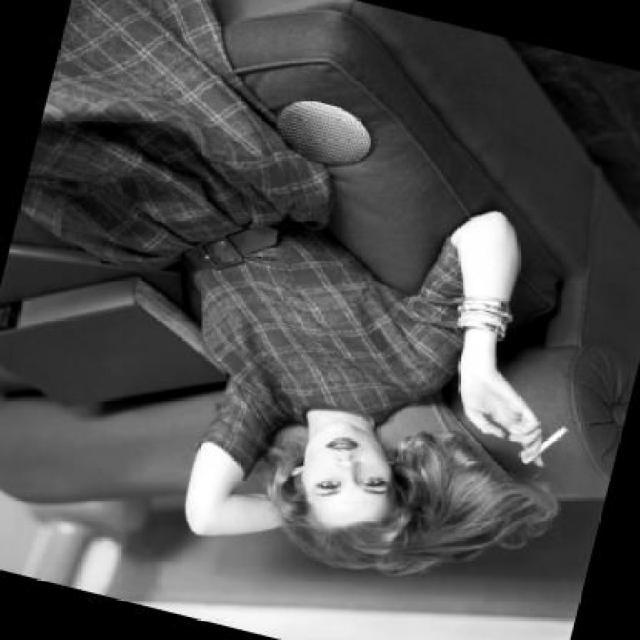smoke: (514, 413, 568, 472)
